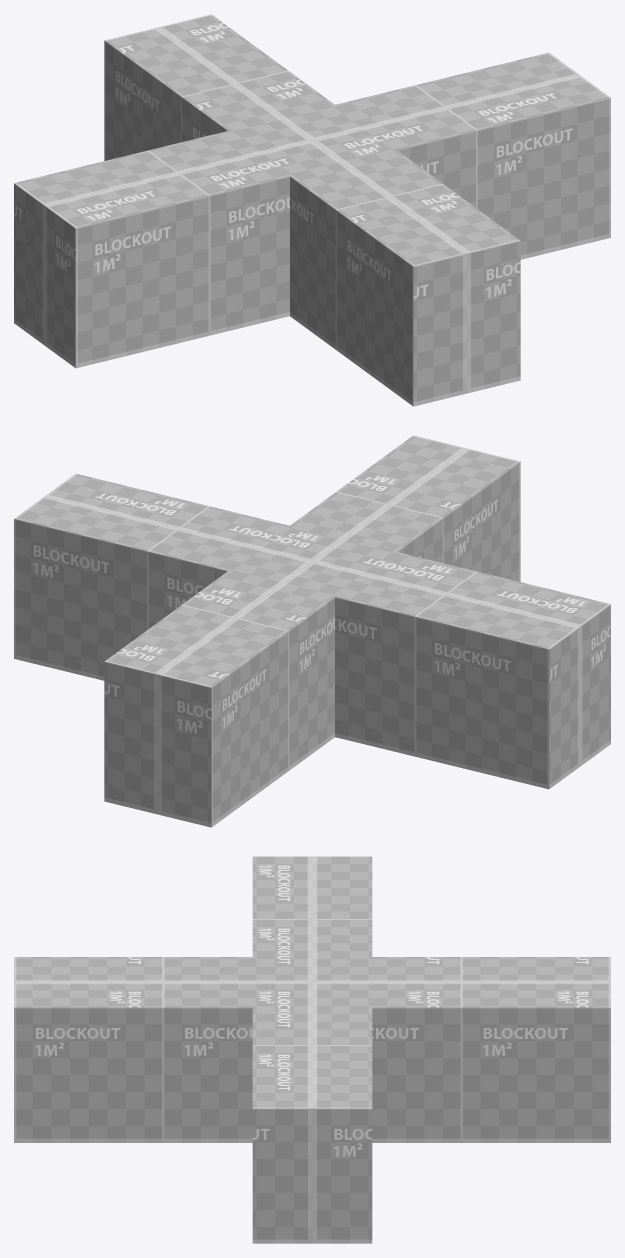
The model's file is BlockoutEdgeFullThickJunctionFourWay.fbx.
3 views of the same model, one above another, from view 1: azimuth 30°, elevation 25°; view 2: azimuth 150°, elevation 25°; view 3: azimuth 270°, elevation 25° (orthographic). The views are drawn at different scales.
Visible parts, largest first — view 1: BlockoutEdgeFullThickJunctionFourWay; view 2: BlockoutEdgeFullThickJunctionFourWay; view 3: BlockoutEdgeFullThickJunctionFourWay.
Boxes of the visible parts, bbox=[...] form: BlockoutEdgeFullThickJunctionFourWay: bbox=[14, 14, 610, 406]; BlockoutEdgeFullThickJunctionFourWay: bbox=[14, 435, 610, 827]; BlockoutEdgeFullThickJunctionFourWay: bbox=[14, 856, 610, 1243].
Bounding box in the file's own units: 400 × 100 × 400.
